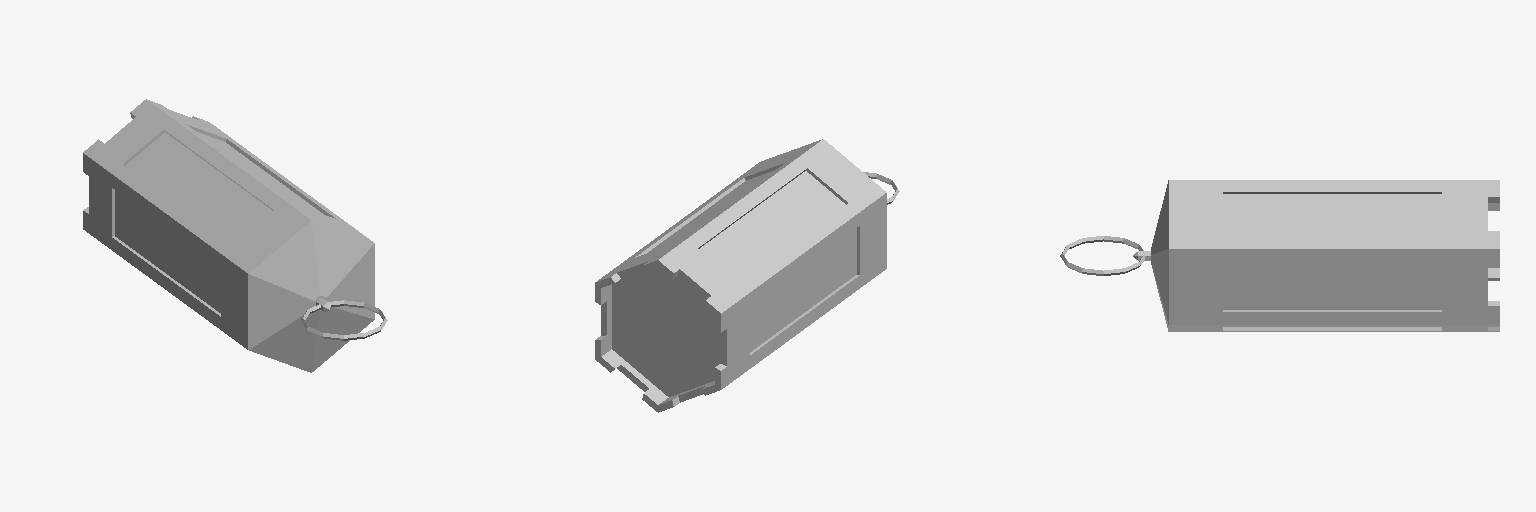
File: lantern.obj
3 renders of one model, left to right at view 1: azimuth 30°, elevation 25°; view 2: azimuth 150°, elevation 25°; view 3: azimuth 270°, elevation 25°, orthographic.
Parts seen in each view (by area): view 1: Horn_Lantern; view 2: Horn_Lantern; view 3: Horn_Lantern.
Part boxes in pixels (x1,y1,x2,y2): Horn_Lantern: (83, 99, 387, 372); Horn_Lantern: (595, 139, 899, 412); Horn_Lantern: (1060, 180, 1499, 331).
Bounding box in the file's own units: 0.2855 × 0.3297 × 0.8599.